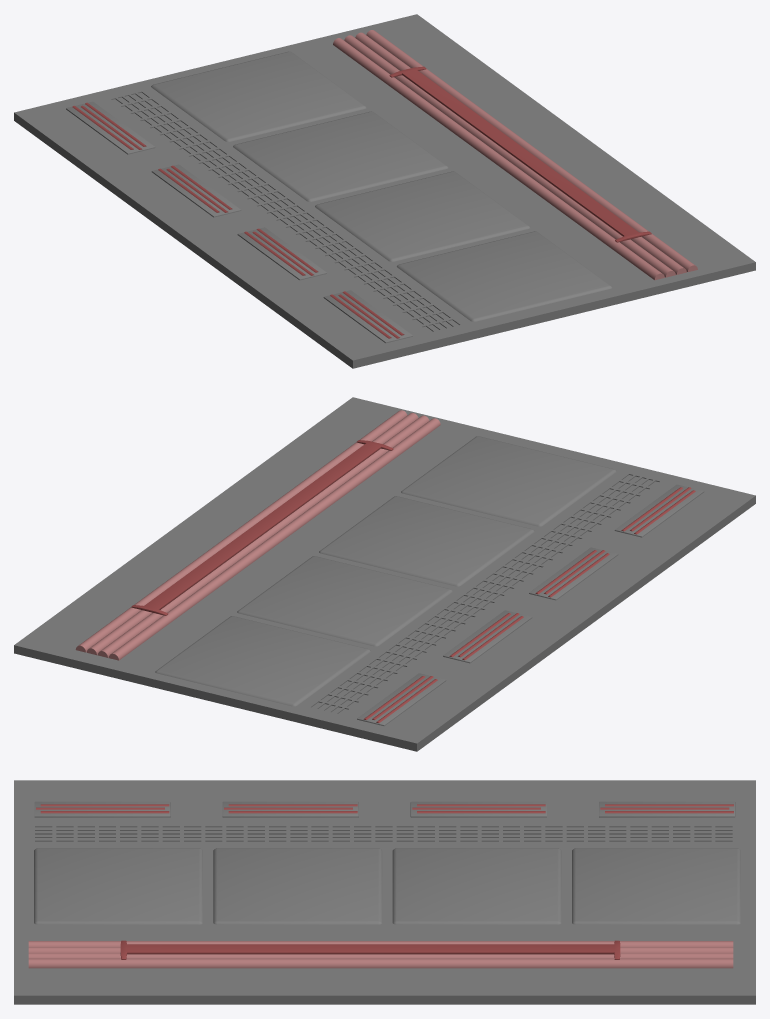
Rendered from floor 2.FBX.
3 views of the same model, one above another, from view 1: azimuth 30°, elevation 25°; view 2: azimuth 150°, elevation 25°; view 3: azimuth 270°, elevation 25° (orthographic). The views are drawn at different scales.
Visible parts, largest first — view 1: Floor 2e version; view 2: Floor 2e version; view 3: Floor 2e version.
Boxes of the visible parts, left/top/right/bottom form: Floor 2e version: left=14, top=14, right=755, bottom=368; Floor 2e version: left=14, top=397, right=755, bottom=751; Floor 2e version: left=14, top=780, right=755, bottom=1004.
Size of the model in its own units: 791 by 35 by 1152.
